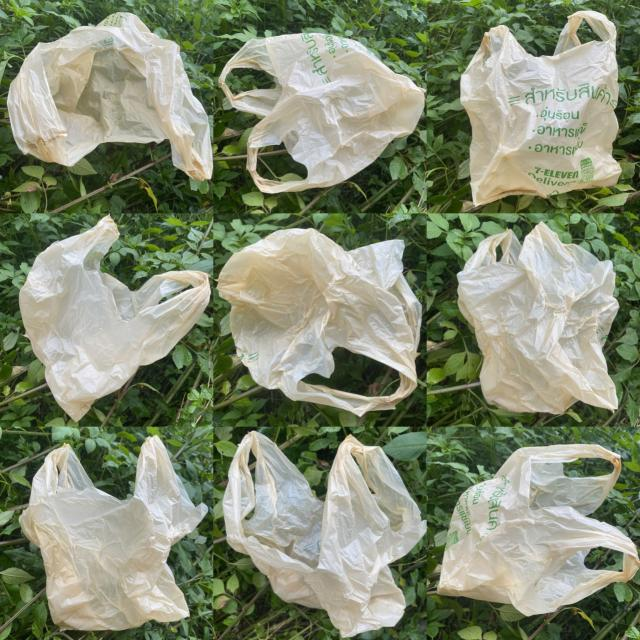Single-layer Plastic: (222, 431, 425, 637), (19, 215, 210, 421), (218, 229, 421, 415), (20, 435, 208, 631), (438, 444, 640, 616), (8, 12, 212, 180), (219, 34, 425, 193), (460, 11, 621, 205), (458, 222, 619, 413)
